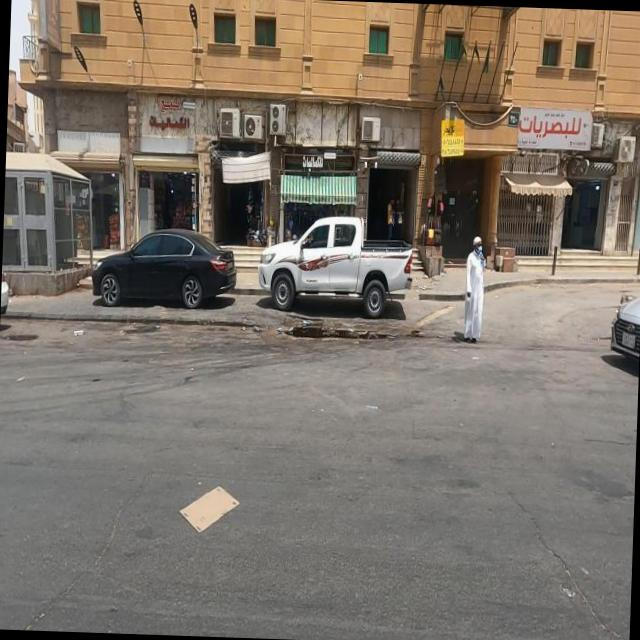debris: (158, 424, 272, 568), (261, 56, 377, 179), (335, 80, 451, 172), (246, 286, 352, 384)
